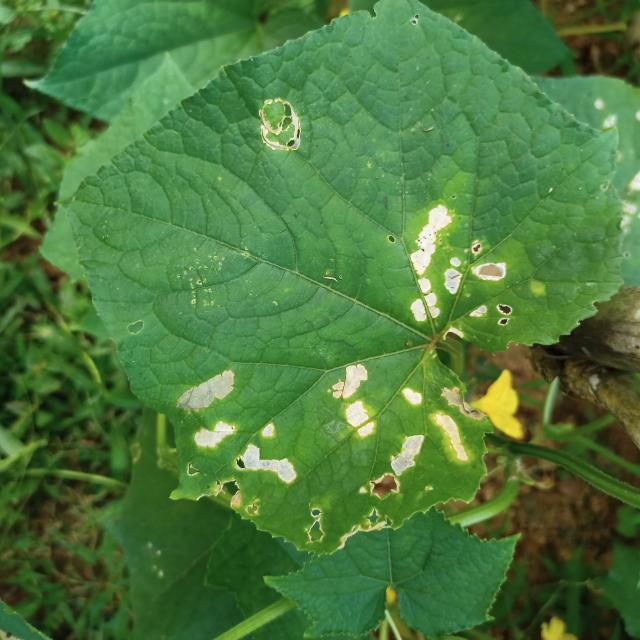disease_cucumber: (400, 200, 512, 347), (387, 381, 486, 490), (175, 366, 240, 456), (329, 363, 382, 443), (241, 419, 300, 486)
